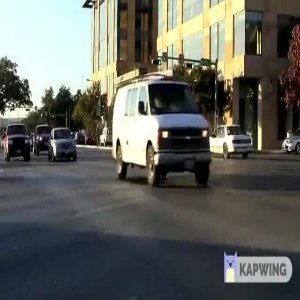car: (203, 122, 254, 165), (50, 127, 77, 165)
suv: (3, 120, 34, 164)
van: (109, 80, 210, 196)
